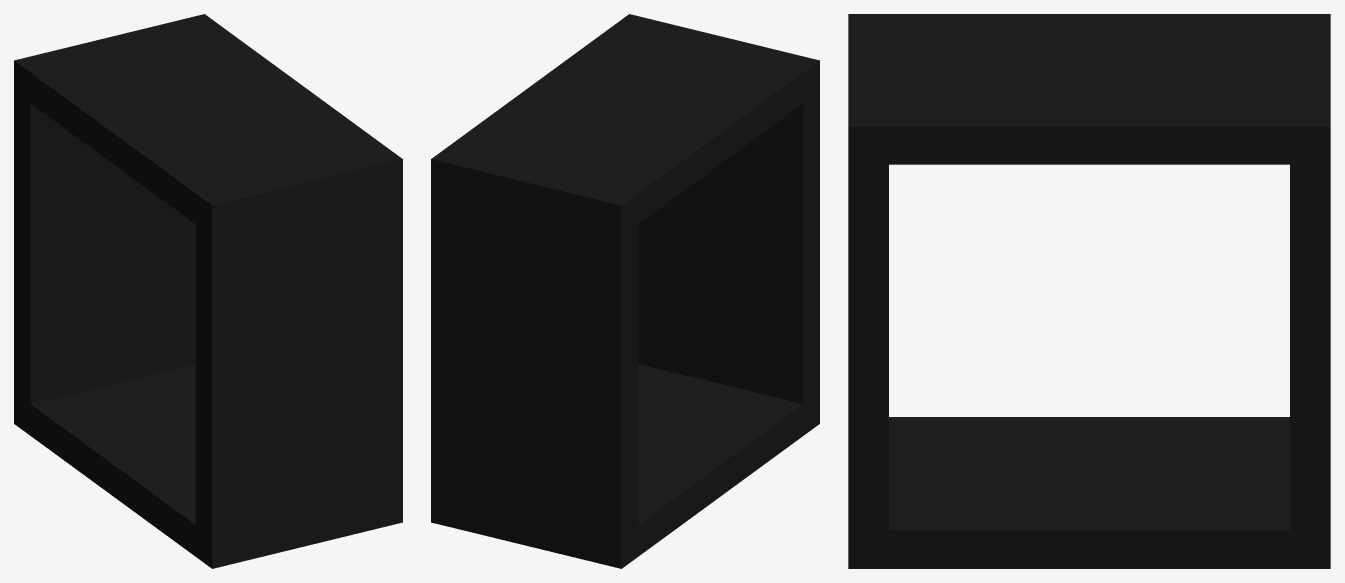
The model's file is Shelf_03.fbx.
3 views of the same model, side by side, from view 1: azimuth 30°, elevation 25°; view 2: azimuth 150°, elevation 25°; view 3: azimuth 270°, elevation 25° (orthographic). The views are drawn at different scales.
Visible parts, largest first — view 1: Cube; view 2: Cube; view 3: Cube.
Part boxes in pixels (x1,y1,x2,y2): Cube: (14,14,402,568); Cube: (431,14,819,568); Cube: (848,14,1330,568).
Size of the model in its own units: 40 by 72.92 by 72.09.
